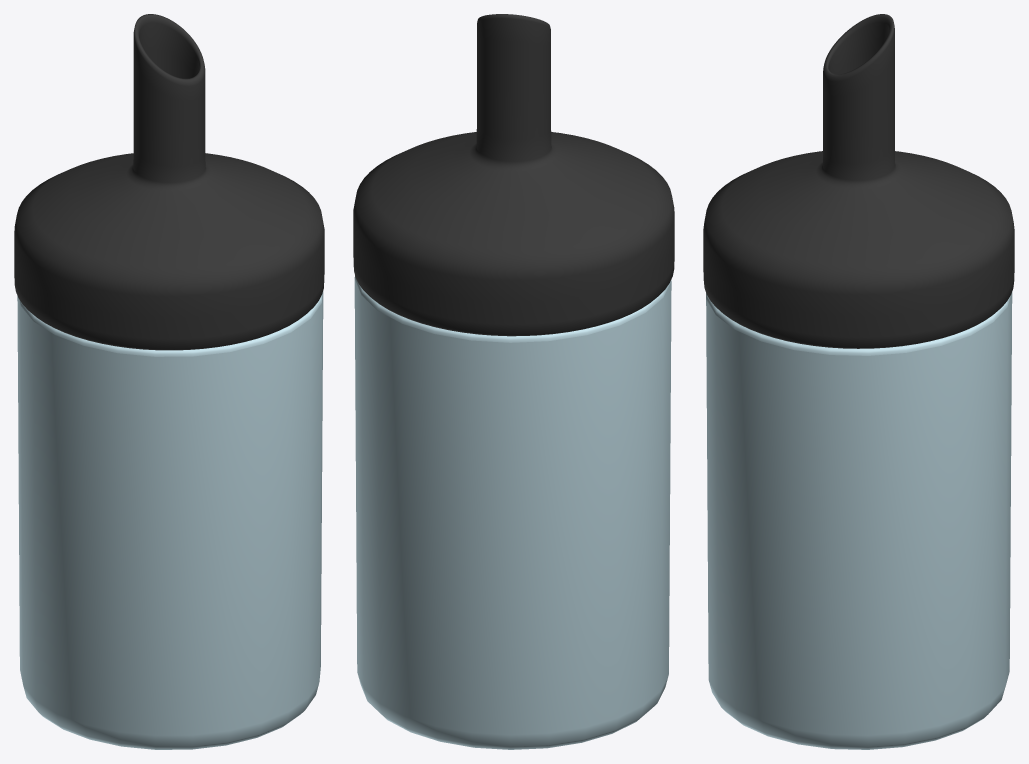
File: VP_Sugarholder.FBX
The picture shows the model from 3 angles, left to right: view 1: azimuth 30°, elevation 25°; view 2: azimuth 150°, elevation 25°; view 3: azimuth 270°, elevation 25°; orthographic projection. The views are drawn at different scales.
Visible parts, largest first — view 1: VP_Sugarholder; view 2: VP_Sugarholder; view 3: VP_Sugarholder.
Part boxes in pixels (box(x1,y1,x2,y2)): VP_Sugarholder: box(14, 14, 324, 749); VP_Sugarholder: box(353, 14, 674, 749); VP_Sugarholder: box(703, 14, 1014, 749).
Size of what is drawn, in the model's own units: 6.09 by 6.09 by 14.45.
